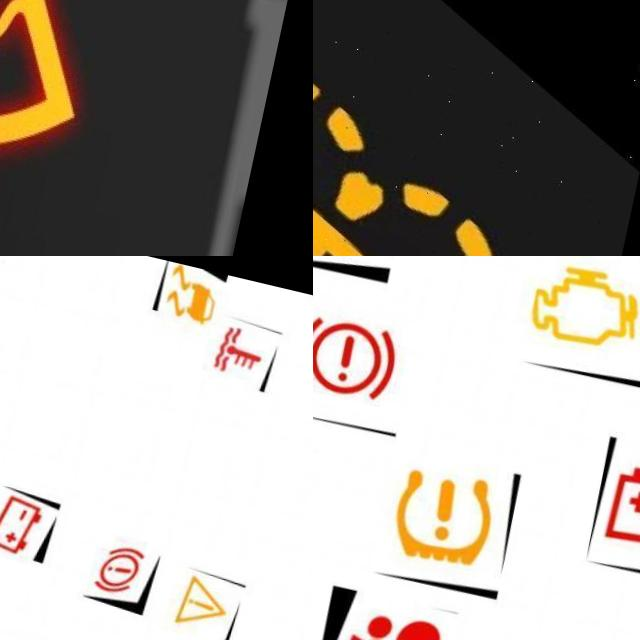Washer Fluid: (313, 27, 539, 256)
